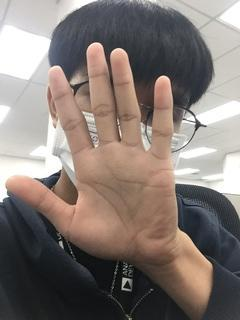hand: (3, 41, 179, 259)
